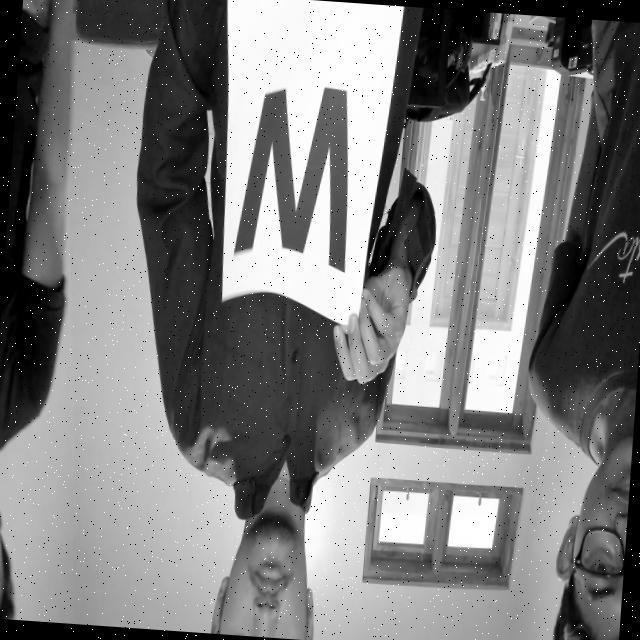w: (225, 69, 363, 292)
